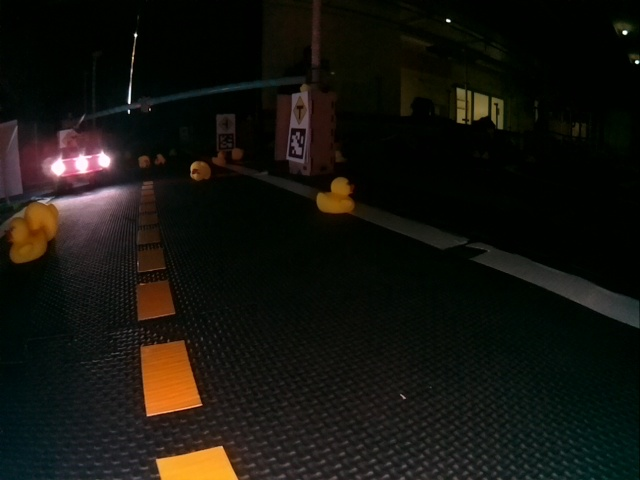Duckie: (6, 217, 47, 262), (317, 177, 355, 213), (25, 202, 59, 238), (190, 161, 210, 180), (212, 152, 226, 167), (139, 156, 149, 168), (155, 154, 164, 164), (232, 148, 240, 158)
Duckiebot: (47, 139, 114, 188)
Intersection sign: (292, 96, 307, 122), (218, 116, 233, 130)
QR code: (288, 128, 306, 160), (217, 133, 234, 150)
Traffic light: (140, 103, 153, 113)
